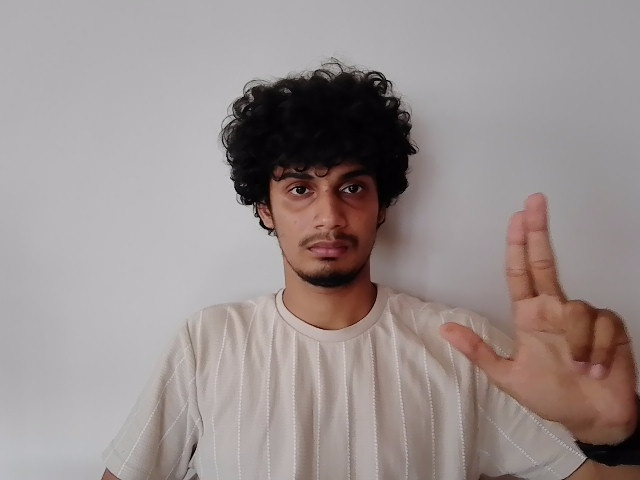no: (442, 190, 640, 415)
